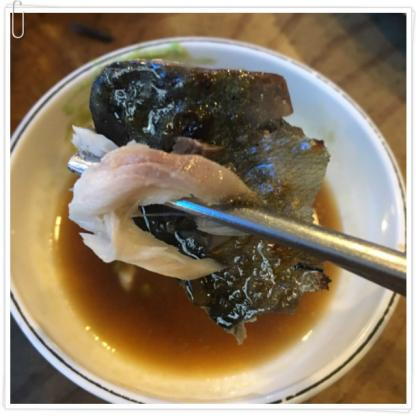Peixe: (90, 67, 350, 318)
